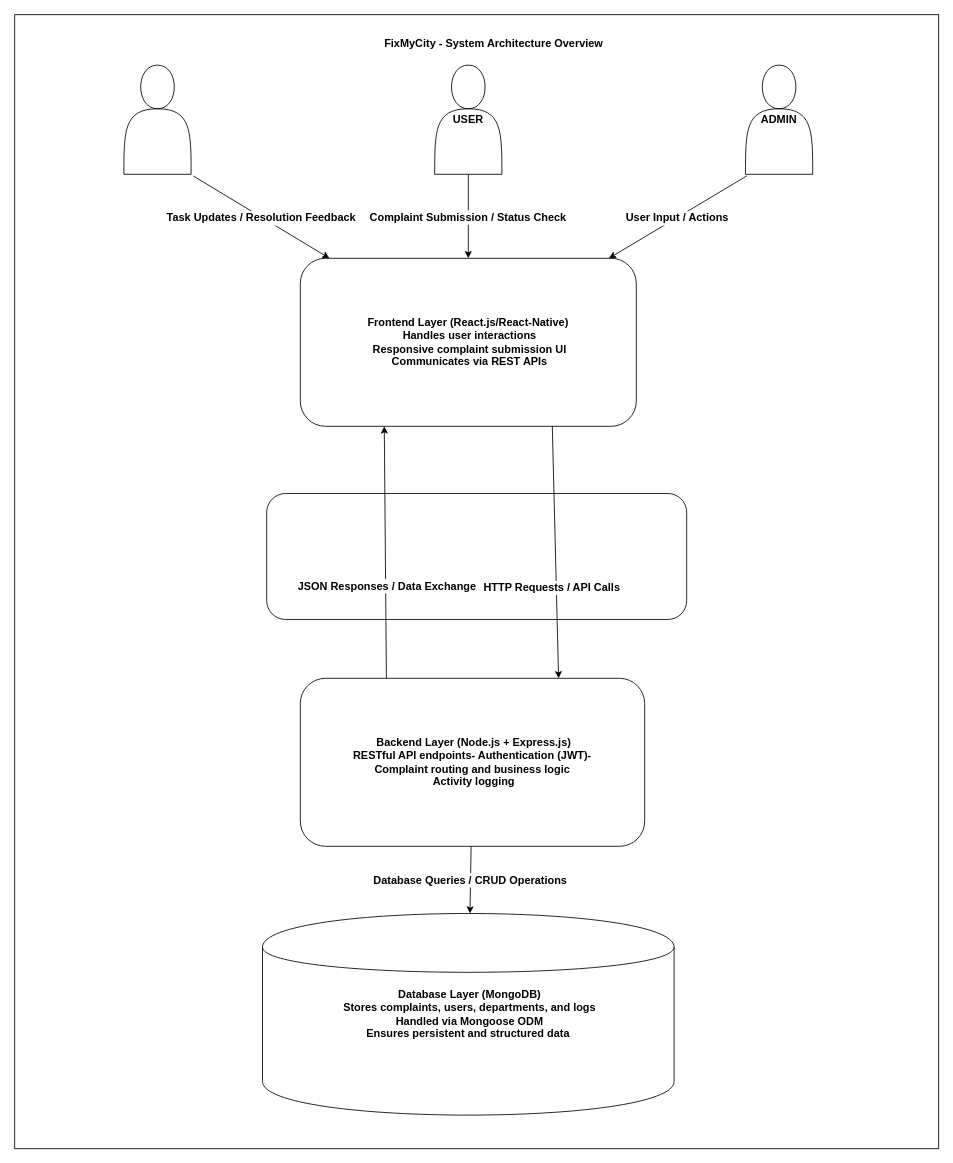
The diagram is 953 pixels wide and 1163 high, and some of its shapes have lost their labels. The centre of each missing label's shape, as x and y in pixels:
"REST API Layer" belongs at [476,556].
"WORKER" belongs at [157,119].
